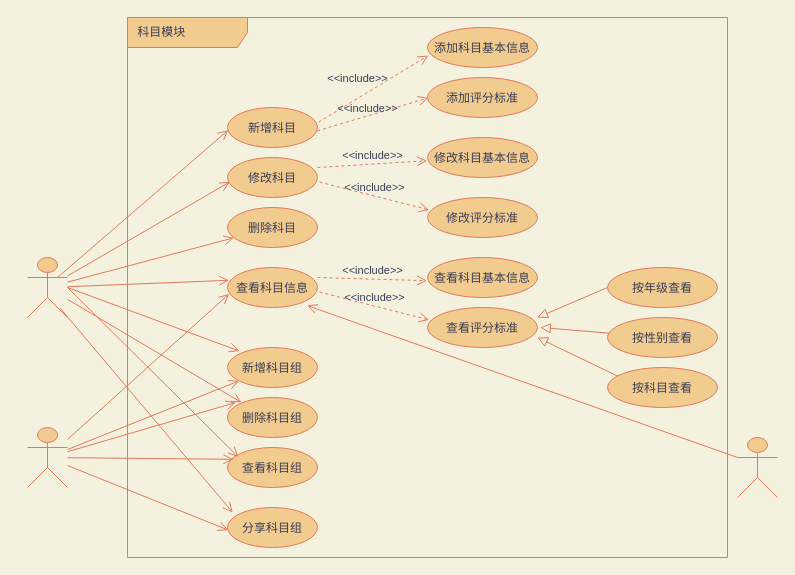
Some shapes in this 795 by 575 pixel diagram are drawn without their labels. The shapes that lost their labels are listed below. From the top down, each one's centre as x and y in pixels, then its label:
At point 47,287: "系统管理员".
At point 47,457: "体育老师".
At point 757,467: "学生".
